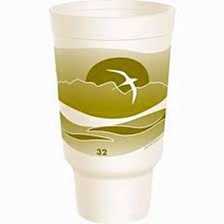paper_cup: (43, 0, 178, 224)
